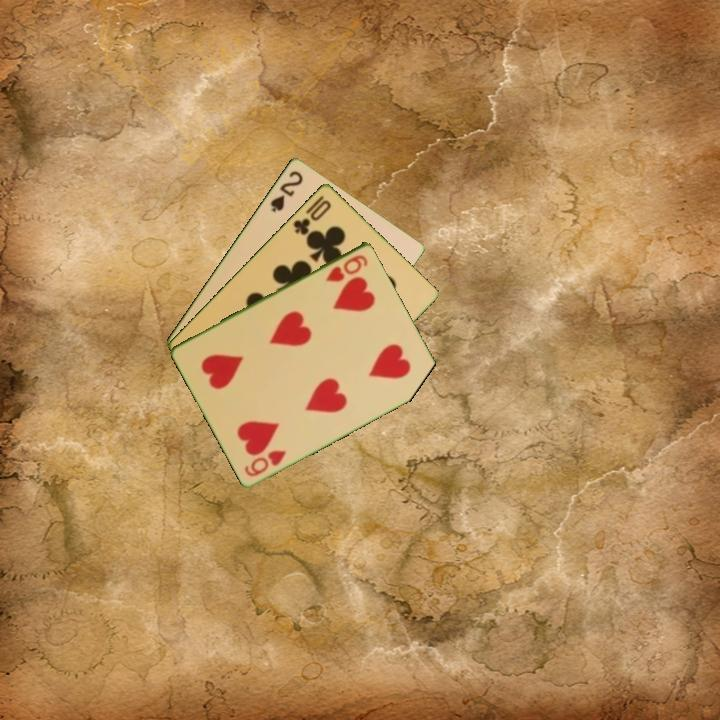10c: (289, 196, 334, 238)
2s: (266, 167, 306, 215)
6h: (322, 251, 371, 285), (241, 446, 289, 479)
